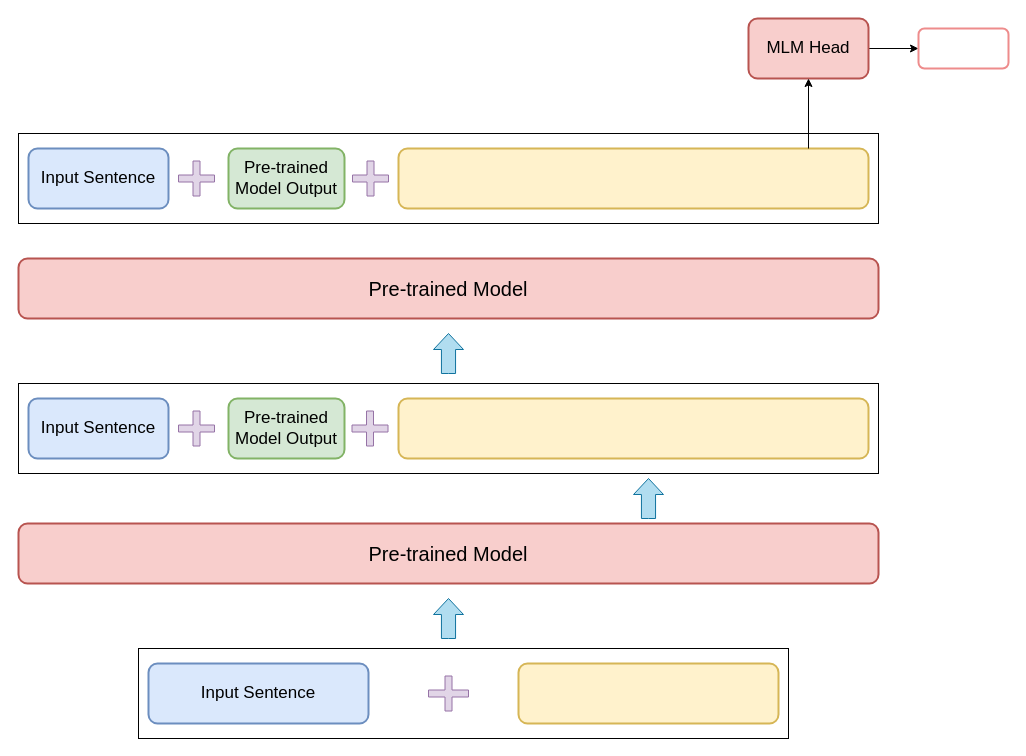
The diagram is 1026 pixels wide and 756 high, and some of its shapes have lost their labels. Here are the shapes that lost their labels. From the top down, the centre of each, then its label:
pixel 963 48: is or not
pixel 633 178: Based on these implicit emotions, the speaker <mask> depressed.
pixel 633 428: What implicit emotions are expressed based on these parts?
pixel 648 693: What parts of this sentence express the speaker's emotions?
